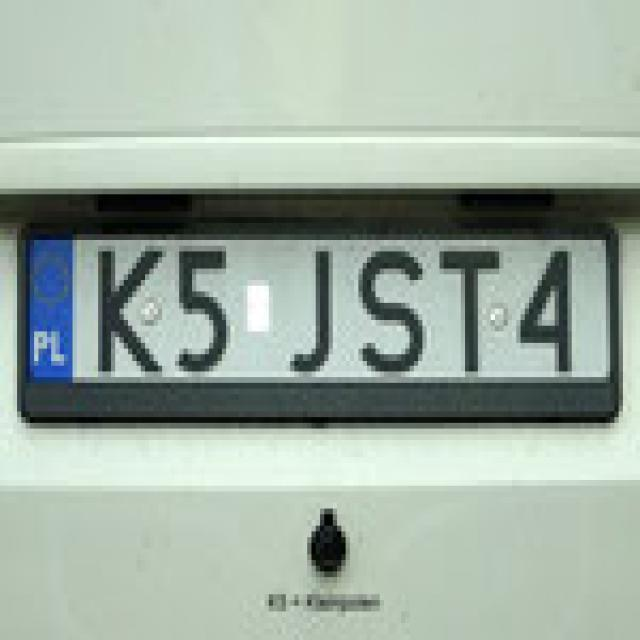pl_license_plate: (26, 235, 602, 372)
